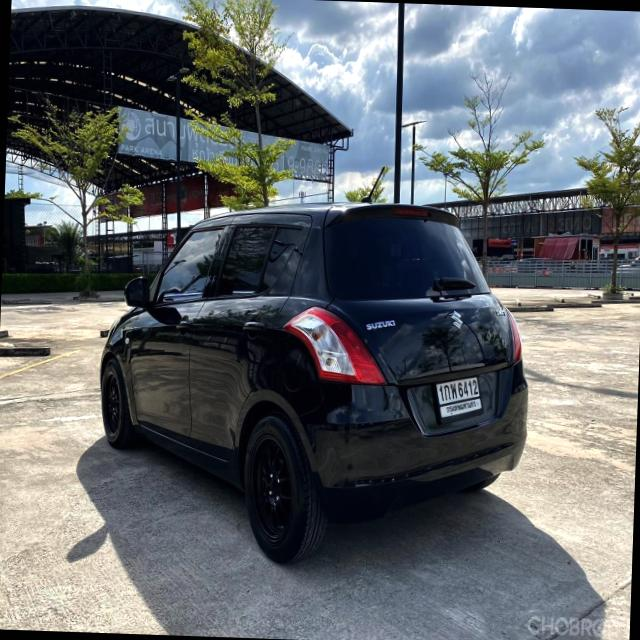license_plate: (432, 372, 486, 422)
